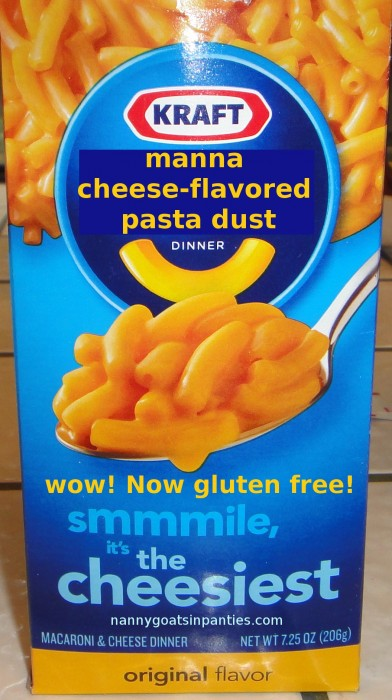cheese: (7, 8, 391, 447)
